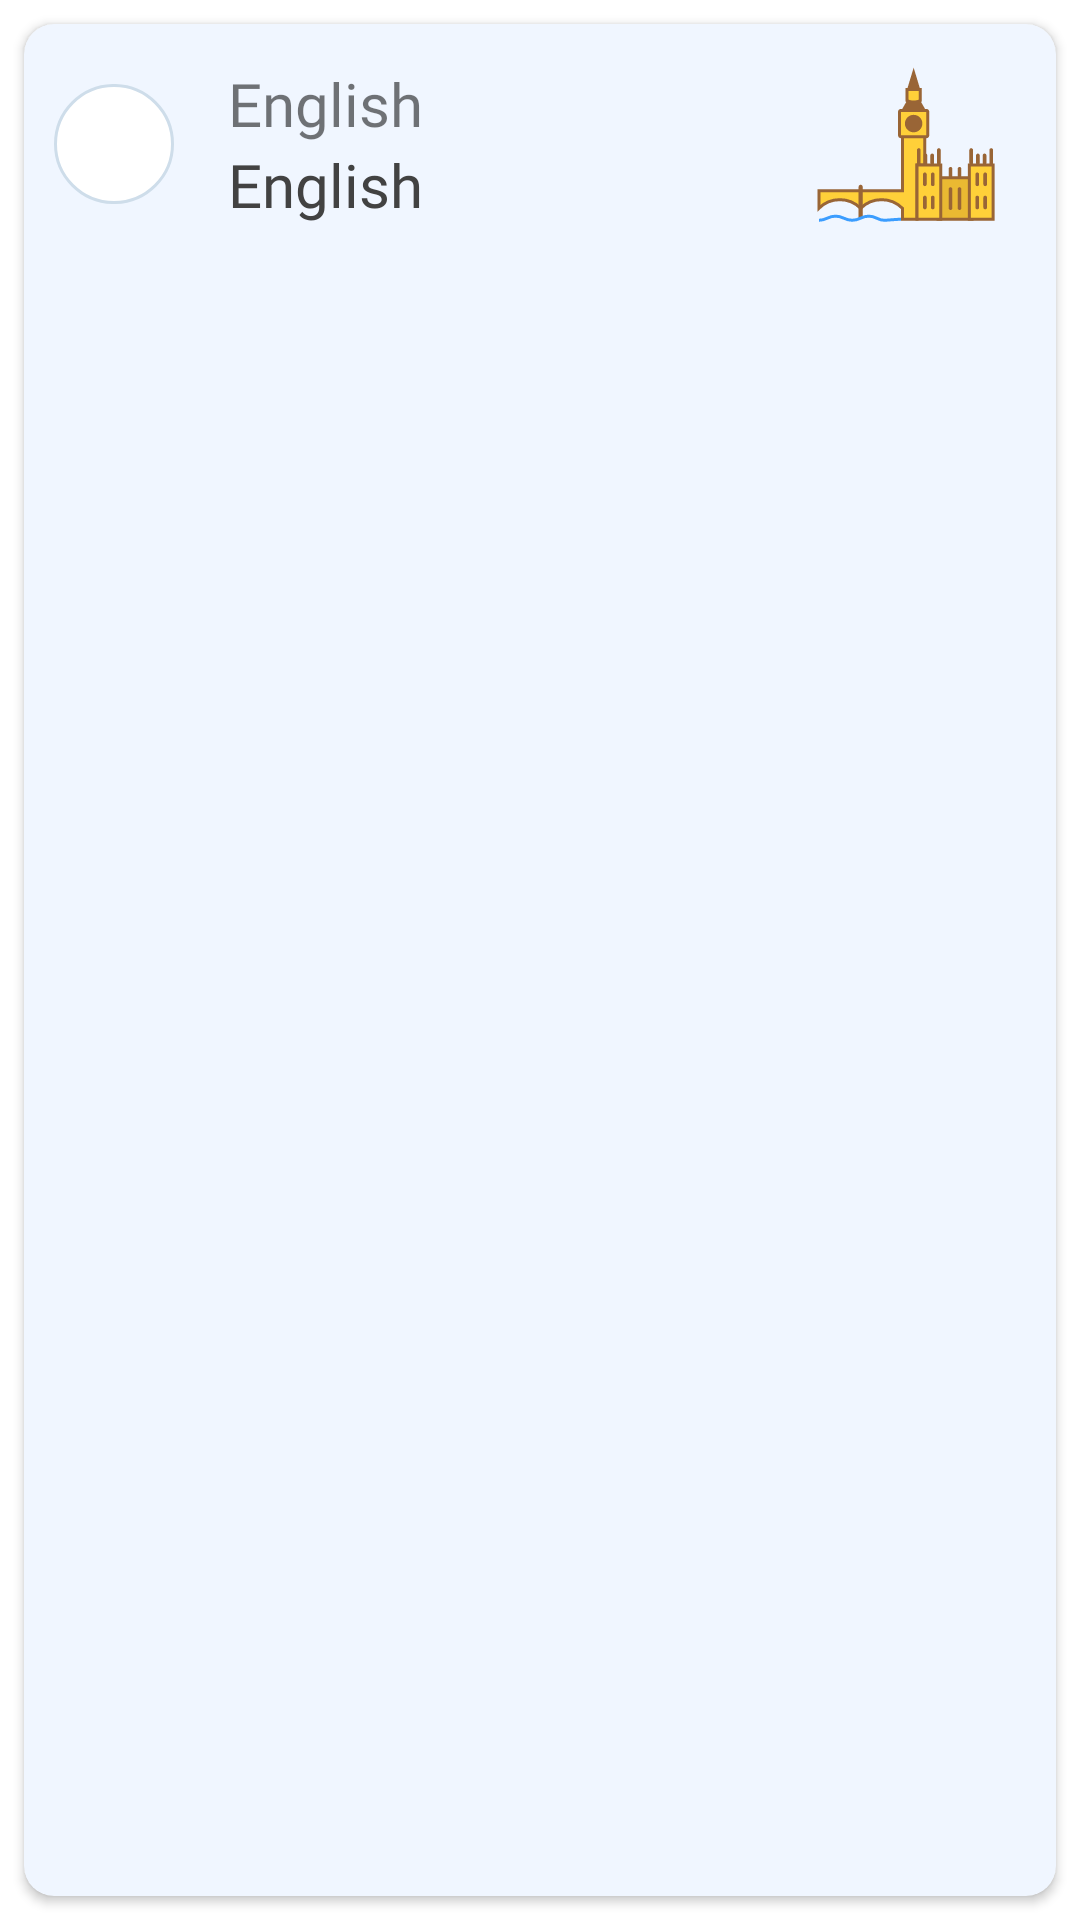

Icon click points for this 1080*1920 phone screenshot, format [x,y]:
english: [906,145]
language unselect: [114,144]
